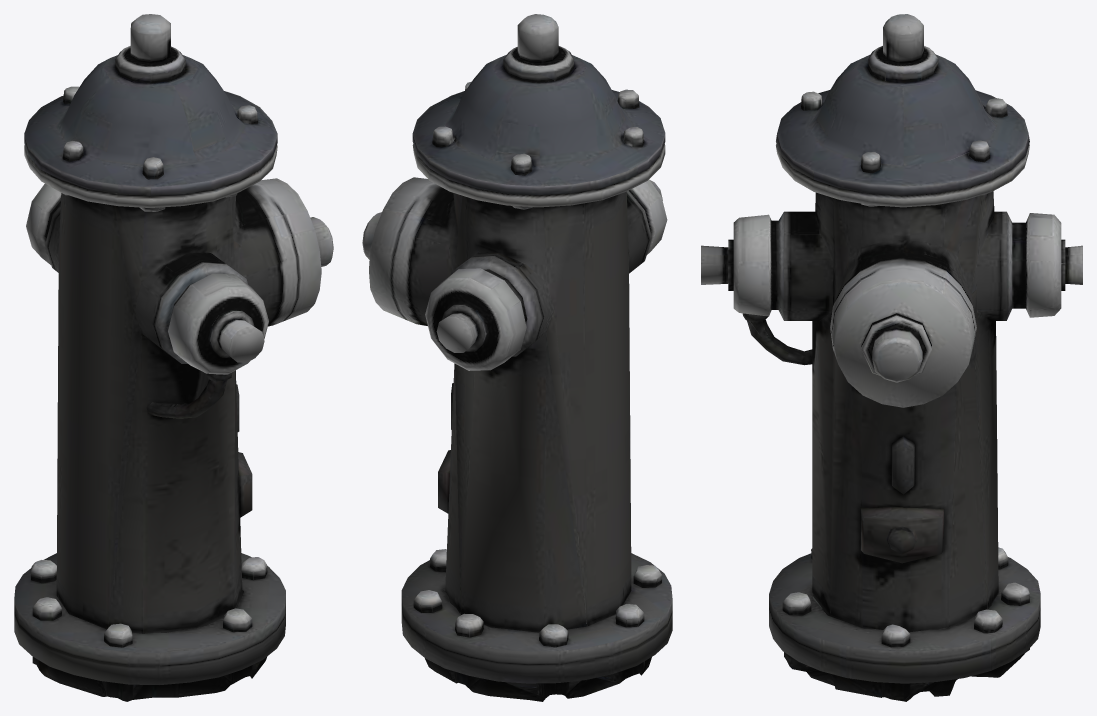
File: street-hydrant.glb
The picture shows the model from 3 angles, left to right: view 1: azimuth 30°, elevation 25°; view 2: azimuth 150°, elevation 25°; view 3: azimuth 270°, elevation 25°; orthographic projection.
Parts seen in each view (by area): view 1: tripo_node_34f18dfc-5957-40c3-8827-ce01ec1bde84; view 2: tripo_node_34f18dfc-5957-40c3-8827-ce01ec1bde84; view 3: tripo_node_34f18dfc-5957-40c3-8827-ce01ec1bde84.
Boxes of the visible parts, <box> form: tripo_node_34f18dfc-5957-40c3-8827-ce01ec1bde84: <box>14,14,333,701</box>; tripo_node_34f18dfc-5957-40c3-8827-ce01ec1bde84: <box>362,14,672,701</box>; tripo_node_34f18dfc-5957-40c3-8827-ce01ec1bde84: <box>701,14,1082,701</box>.
Size of the model in its own units: 0.4755 by 1 by 0.5499.
1 material, 1 textured.
